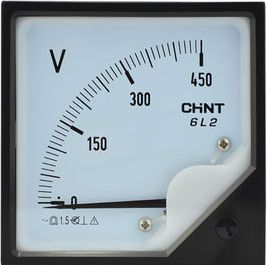pointer: (13, 15, 252, 255)
